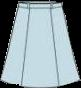Hemline: (0, 78, 80, 87)
Waistline: (18, 1, 61, 4), (18, 6, 61, 9)
